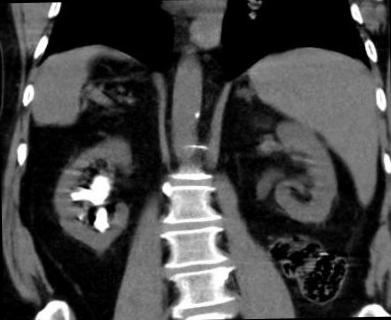Tas_Var: (65, 186, 110, 206), (90, 205, 110, 237), (90, 173, 109, 193), (75, 212, 85, 222)
